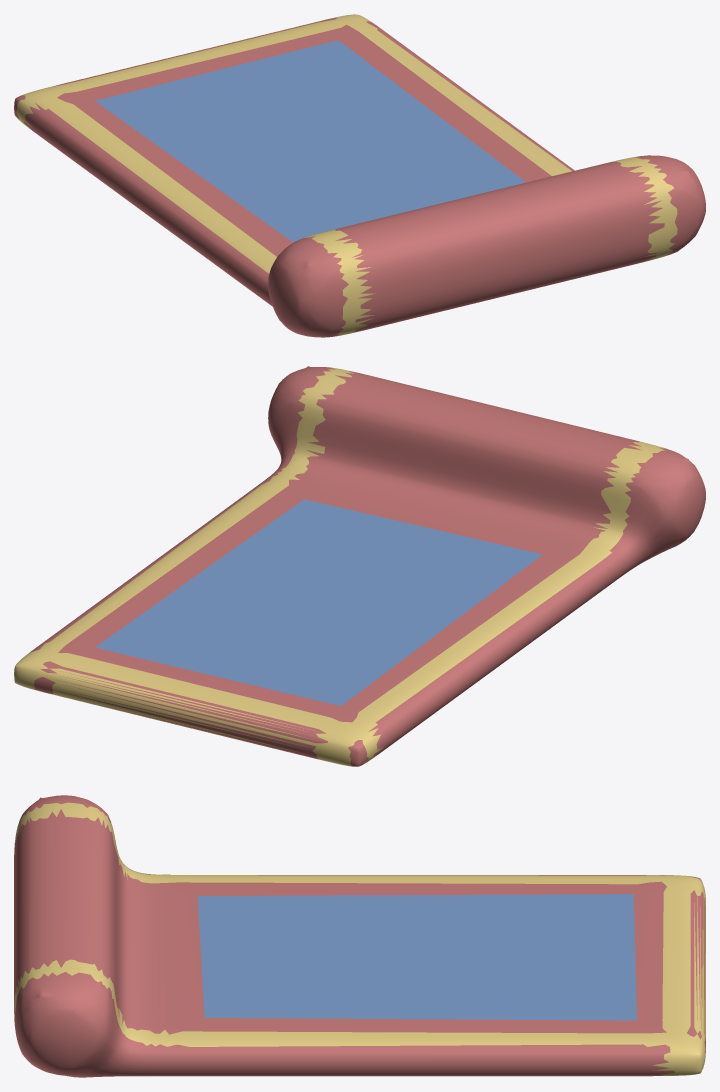
The model's file is rug.glb.
3 views of the same model, one above another, from view 1: azimuth 30°, elevation 25°; view 2: azimuth 150°, elevation 25°; view 3: azimuth 270°, elevation 25° (orthographic). The views are drawn at different scales.
Visible parts, largest first — view 1: rug; view 2: rug; view 3: rug.
Boxes of the visible parts, box(x1,y1,x2,y2) form: rug: box(14, 14, 705, 337); rug: box(14, 366, 705, 766); rug: box(14, 795, 705, 1077).
Size of the model in its own units: 40.53 by 9.14 by 54.87.
